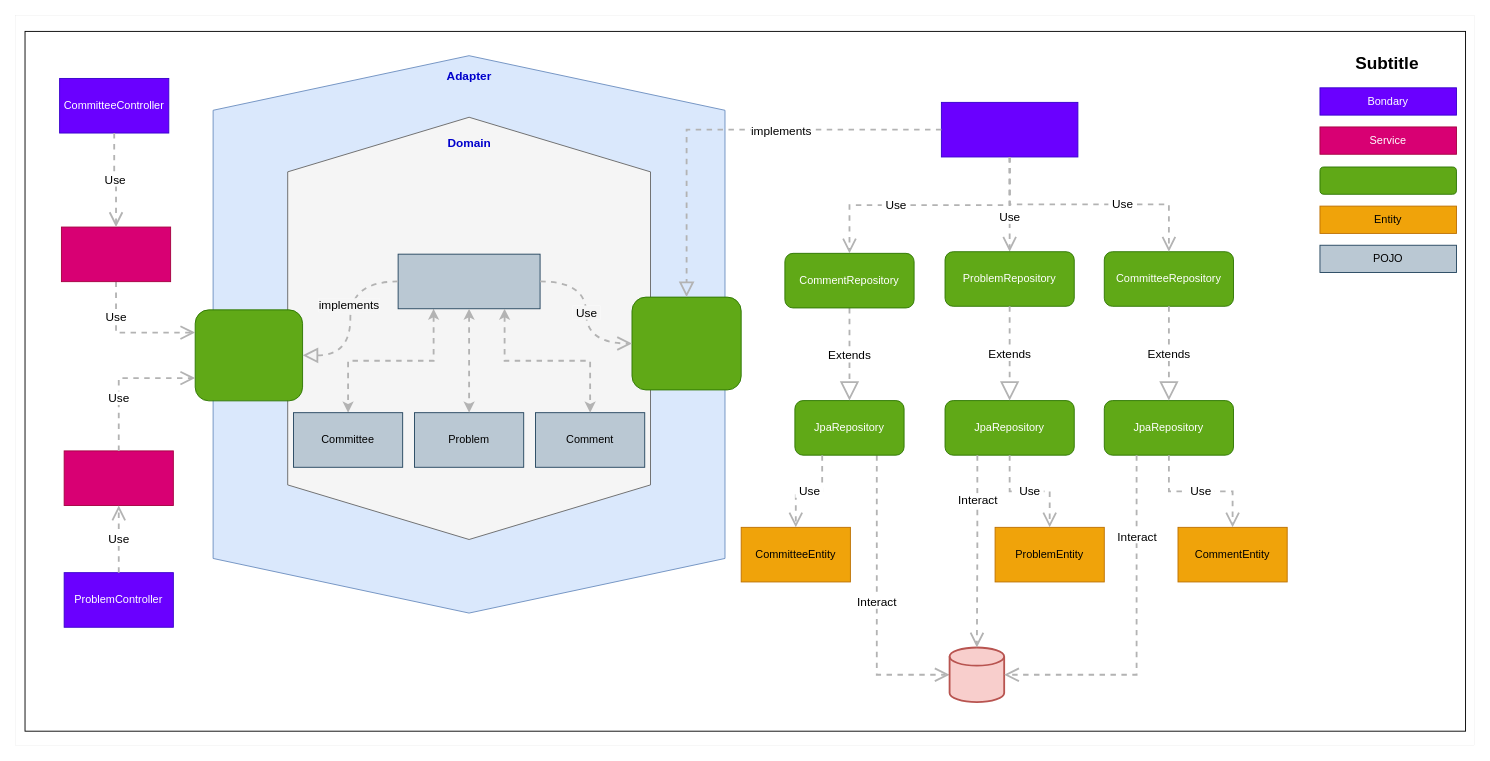
Image size: 1490x761. Some labels were removed from this diagram. The centre of each missing label's shape, as x and y in pixels:
CommitteeService: pixel 116 254
DomainOrchestrator: pixel 468 281
H2: pixel 976 674
H2Adapter: pixel 1009 129
HttpAdapter: pixel 248 355
Interface: pixel 1387 180
PortAdapter: pixel 686 343
ProblemService: pixel 118 478
